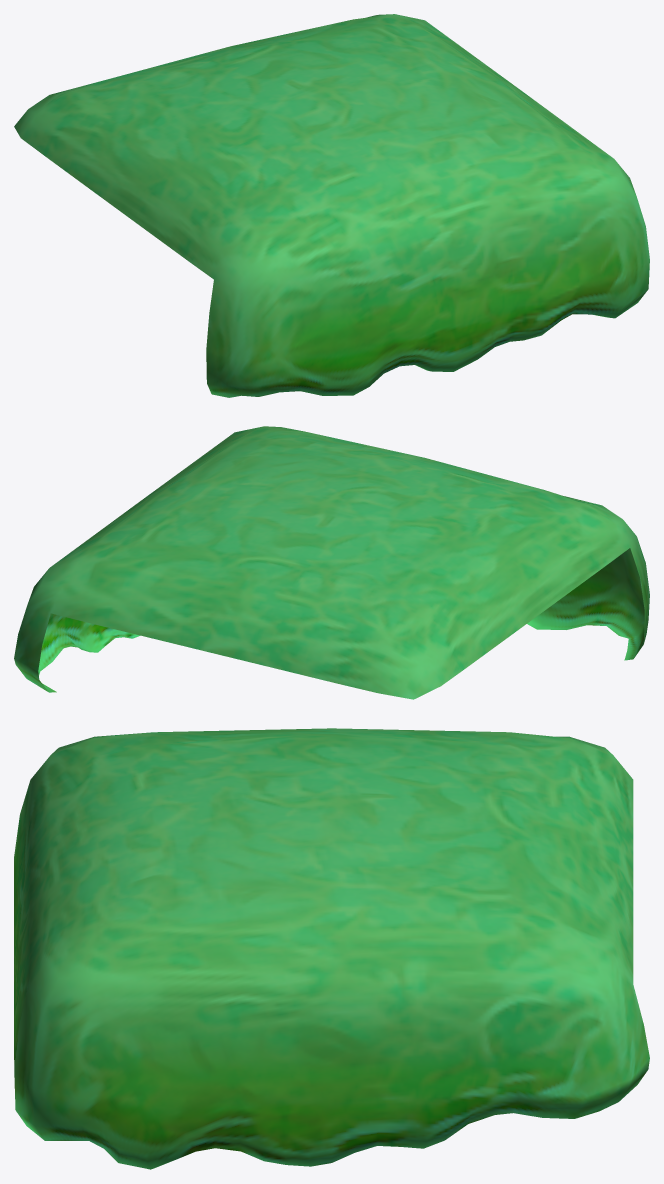
File: GrassV2.fbx
3 renders of one model, top to bottom at view 1: azimuth 30°, elevation 25°; view 2: azimuth 150°, elevation 25°; view 3: azimuth 270°, elevation 25°, orthographic. The views are drawn at different scales.
Visible parts, largest first — view 1: GrassV2; view 2: GrassV2; view 3: GrassV2.
Part boxes in pixels (box(x1,y1,x2,y2)): GrassV2: box(14, 14, 649, 397); GrassV2: box(14, 426, 649, 699); GrassV2: box(14, 728, 649, 1169).
Size of the model in its own units: 107 by 45.25 by 107.
